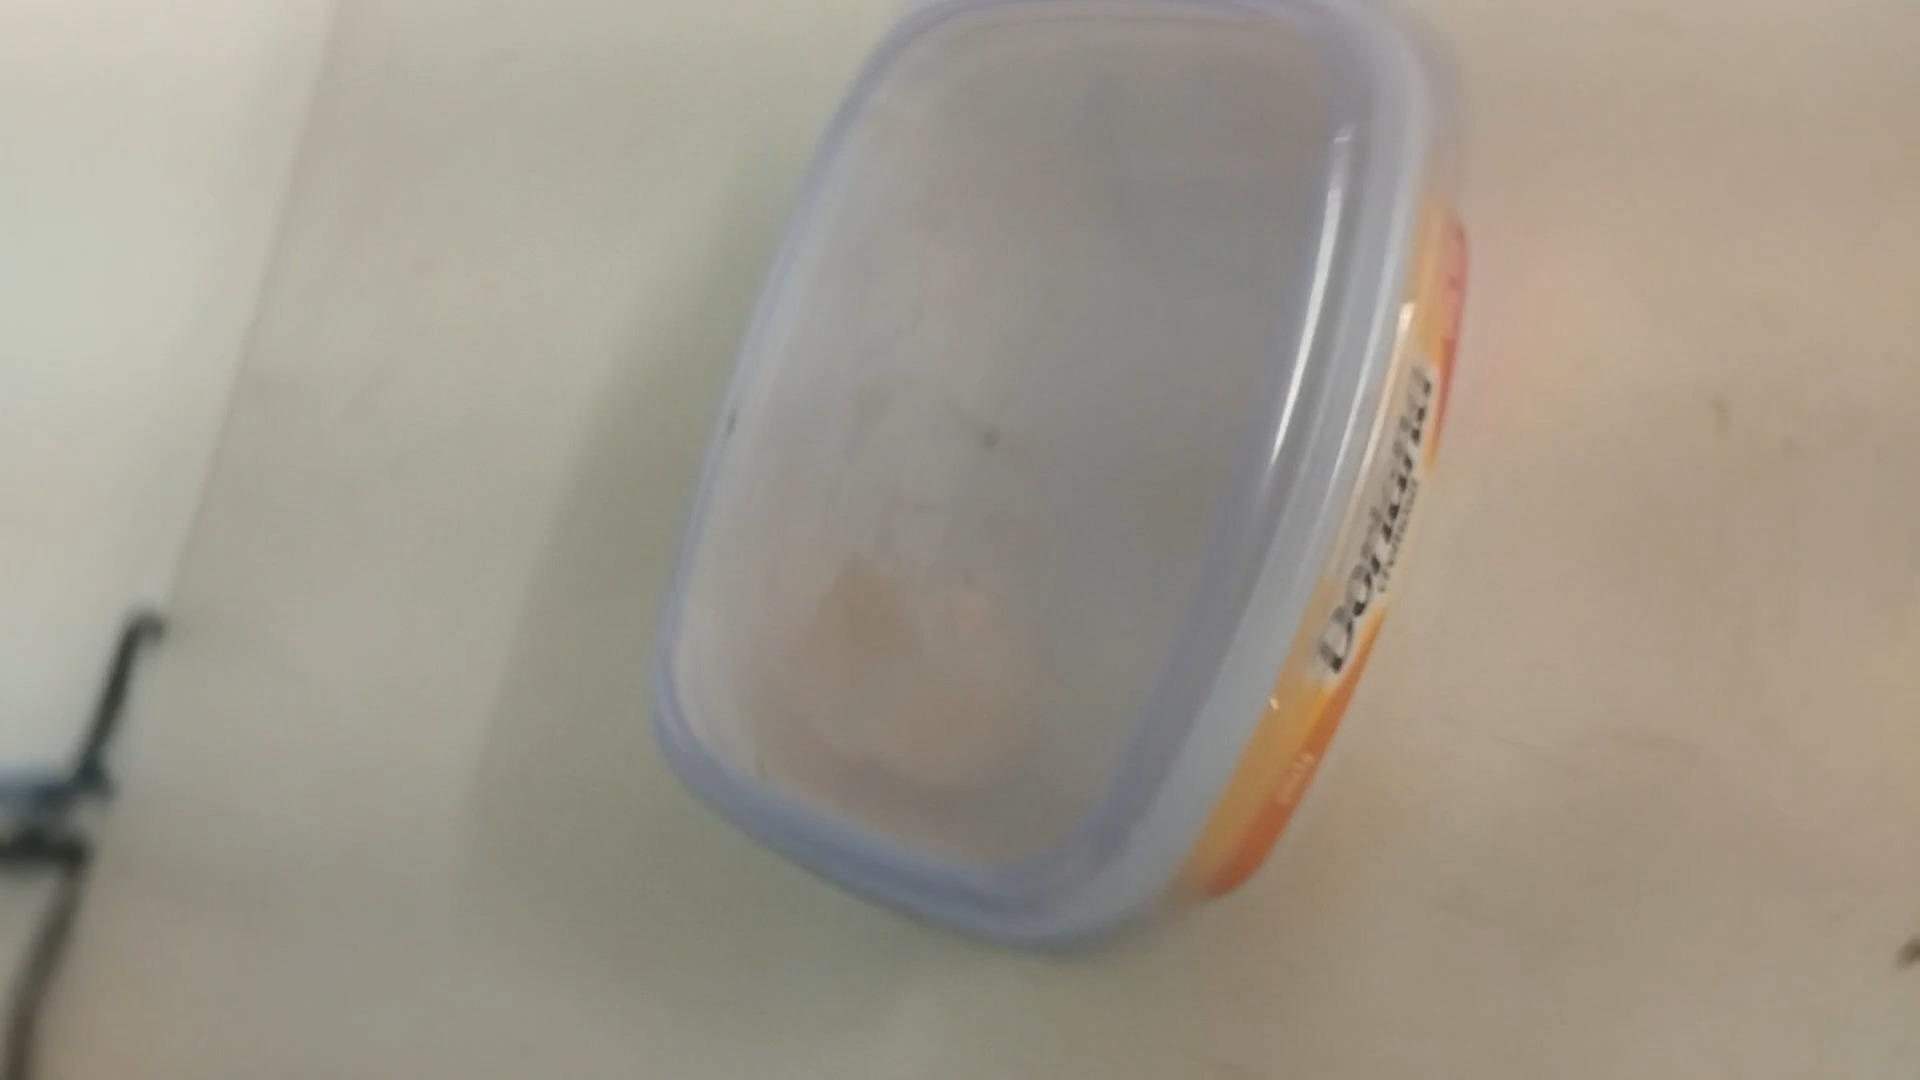butter: (641, 8, 1456, 967)
